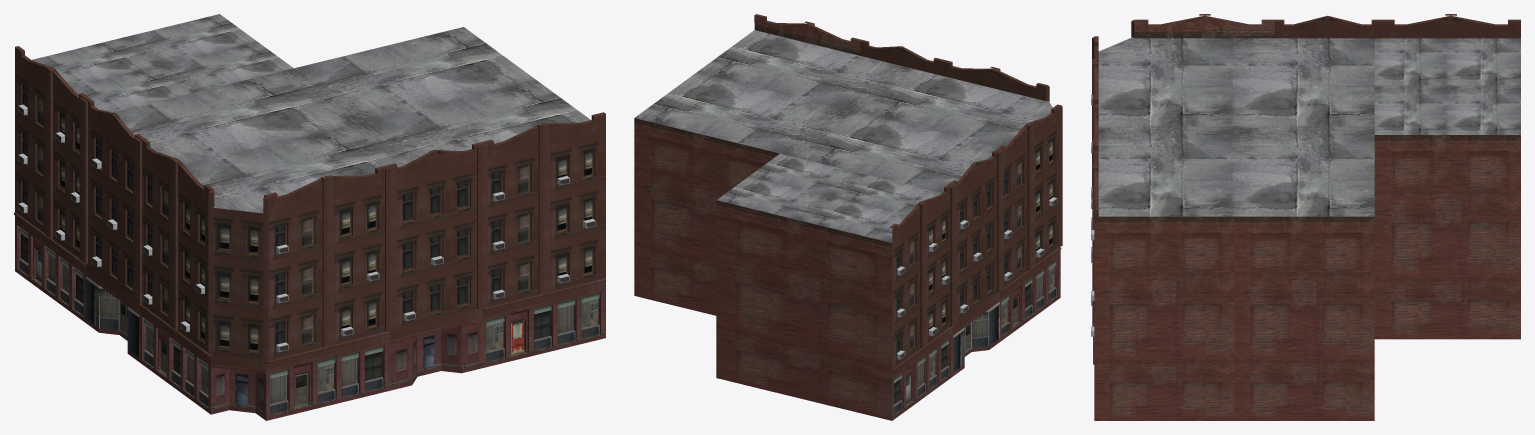
Rendered from lowrise.glb.
3 views of the same model, side by side, from view 1: azimuth 30°, elevation 25°; view 2: azimuth 150°, elevation 25°; view 3: azimuth 270°, elevation 25° (orthographic). The views are drawn at different scales.
Parts seen in each view (by area): view 1: lowrise; view 2: lowrise; view 3: lowrise.
Part boxes in pixels (bbox=[...]): lowrise: bbox=[14, 14, 605, 420]; lowrise: bbox=[634, 14, 1062, 420]; lowrise: bbox=[1091, 14, 1520, 420].
Size of the model in its own units: 30.69 by 17.77 by 30.68.
2 materials, 2 textured.
